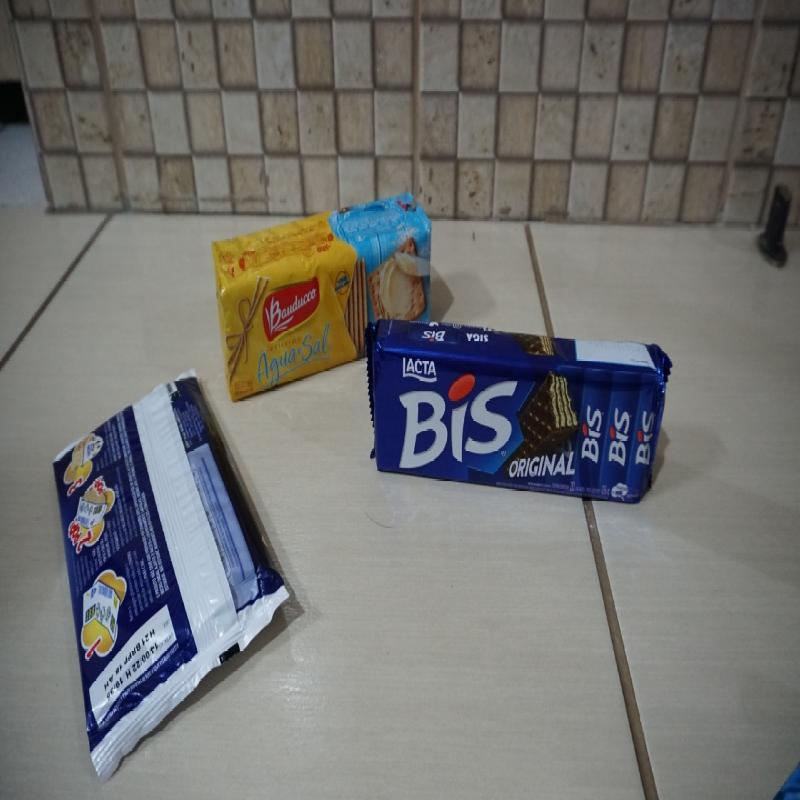Cracker: (205, 188, 438, 317)
Popcorn: (50, 369, 290, 772)
